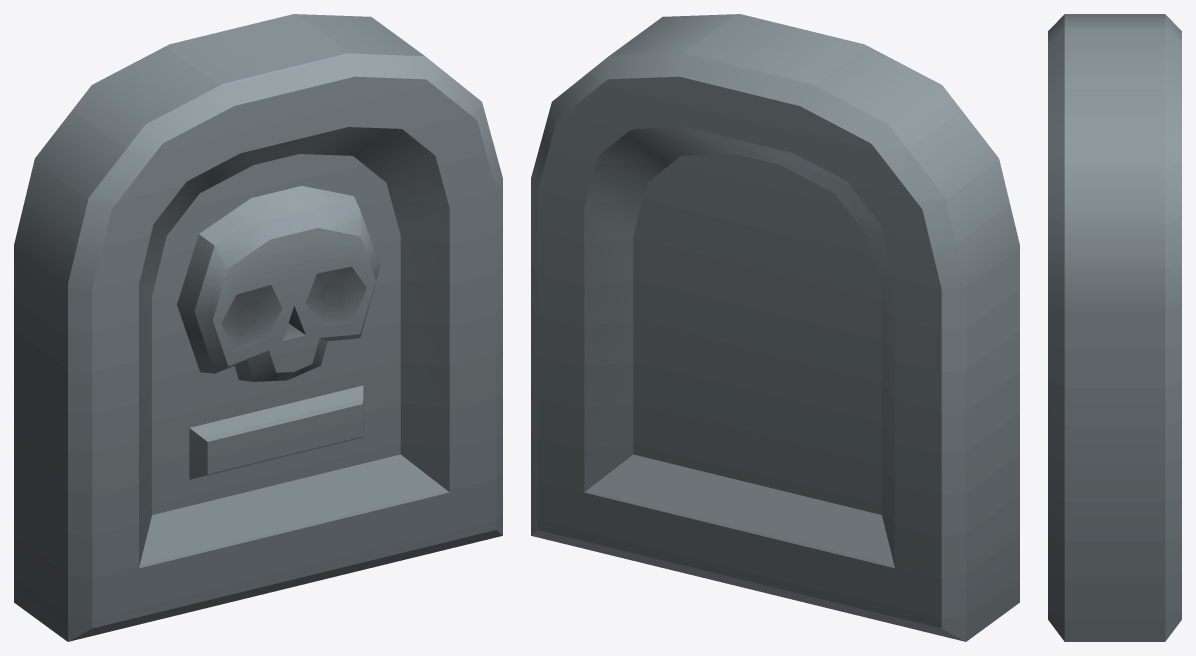
The model's file is hb_gravestone.glb.
3 renders of one model, left to right at view 1: azimuth 30°, elevation 25°; view 2: azimuth 150°, elevation 25°; view 3: azimuth 270°, elevation 25°, orthographic. The views are drawn at different scales.
Visible parts, largest first — view 1: gravestone; view 2: gravestone; view 3: gravestone.
Boxes of the visible parts, <box> form: gravestone: <box>14,14,502,641</box>; gravestone: <box>531,14,1019,641</box>; gravestone: <box>1048,14,1181,641</box>.
Size of the model in its own units: 0.9625 by 1.1 by 0.275.
1 material, 1 textured.
